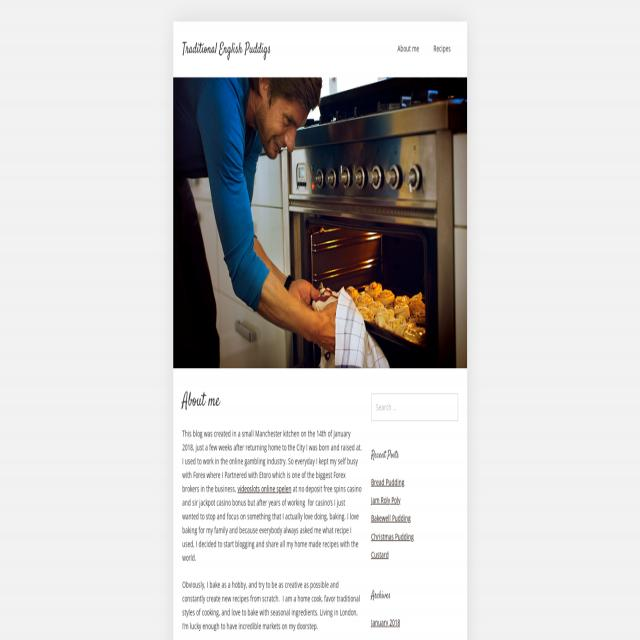button: (173, 78, 467, 368)
field: (371, 394, 458, 422)
